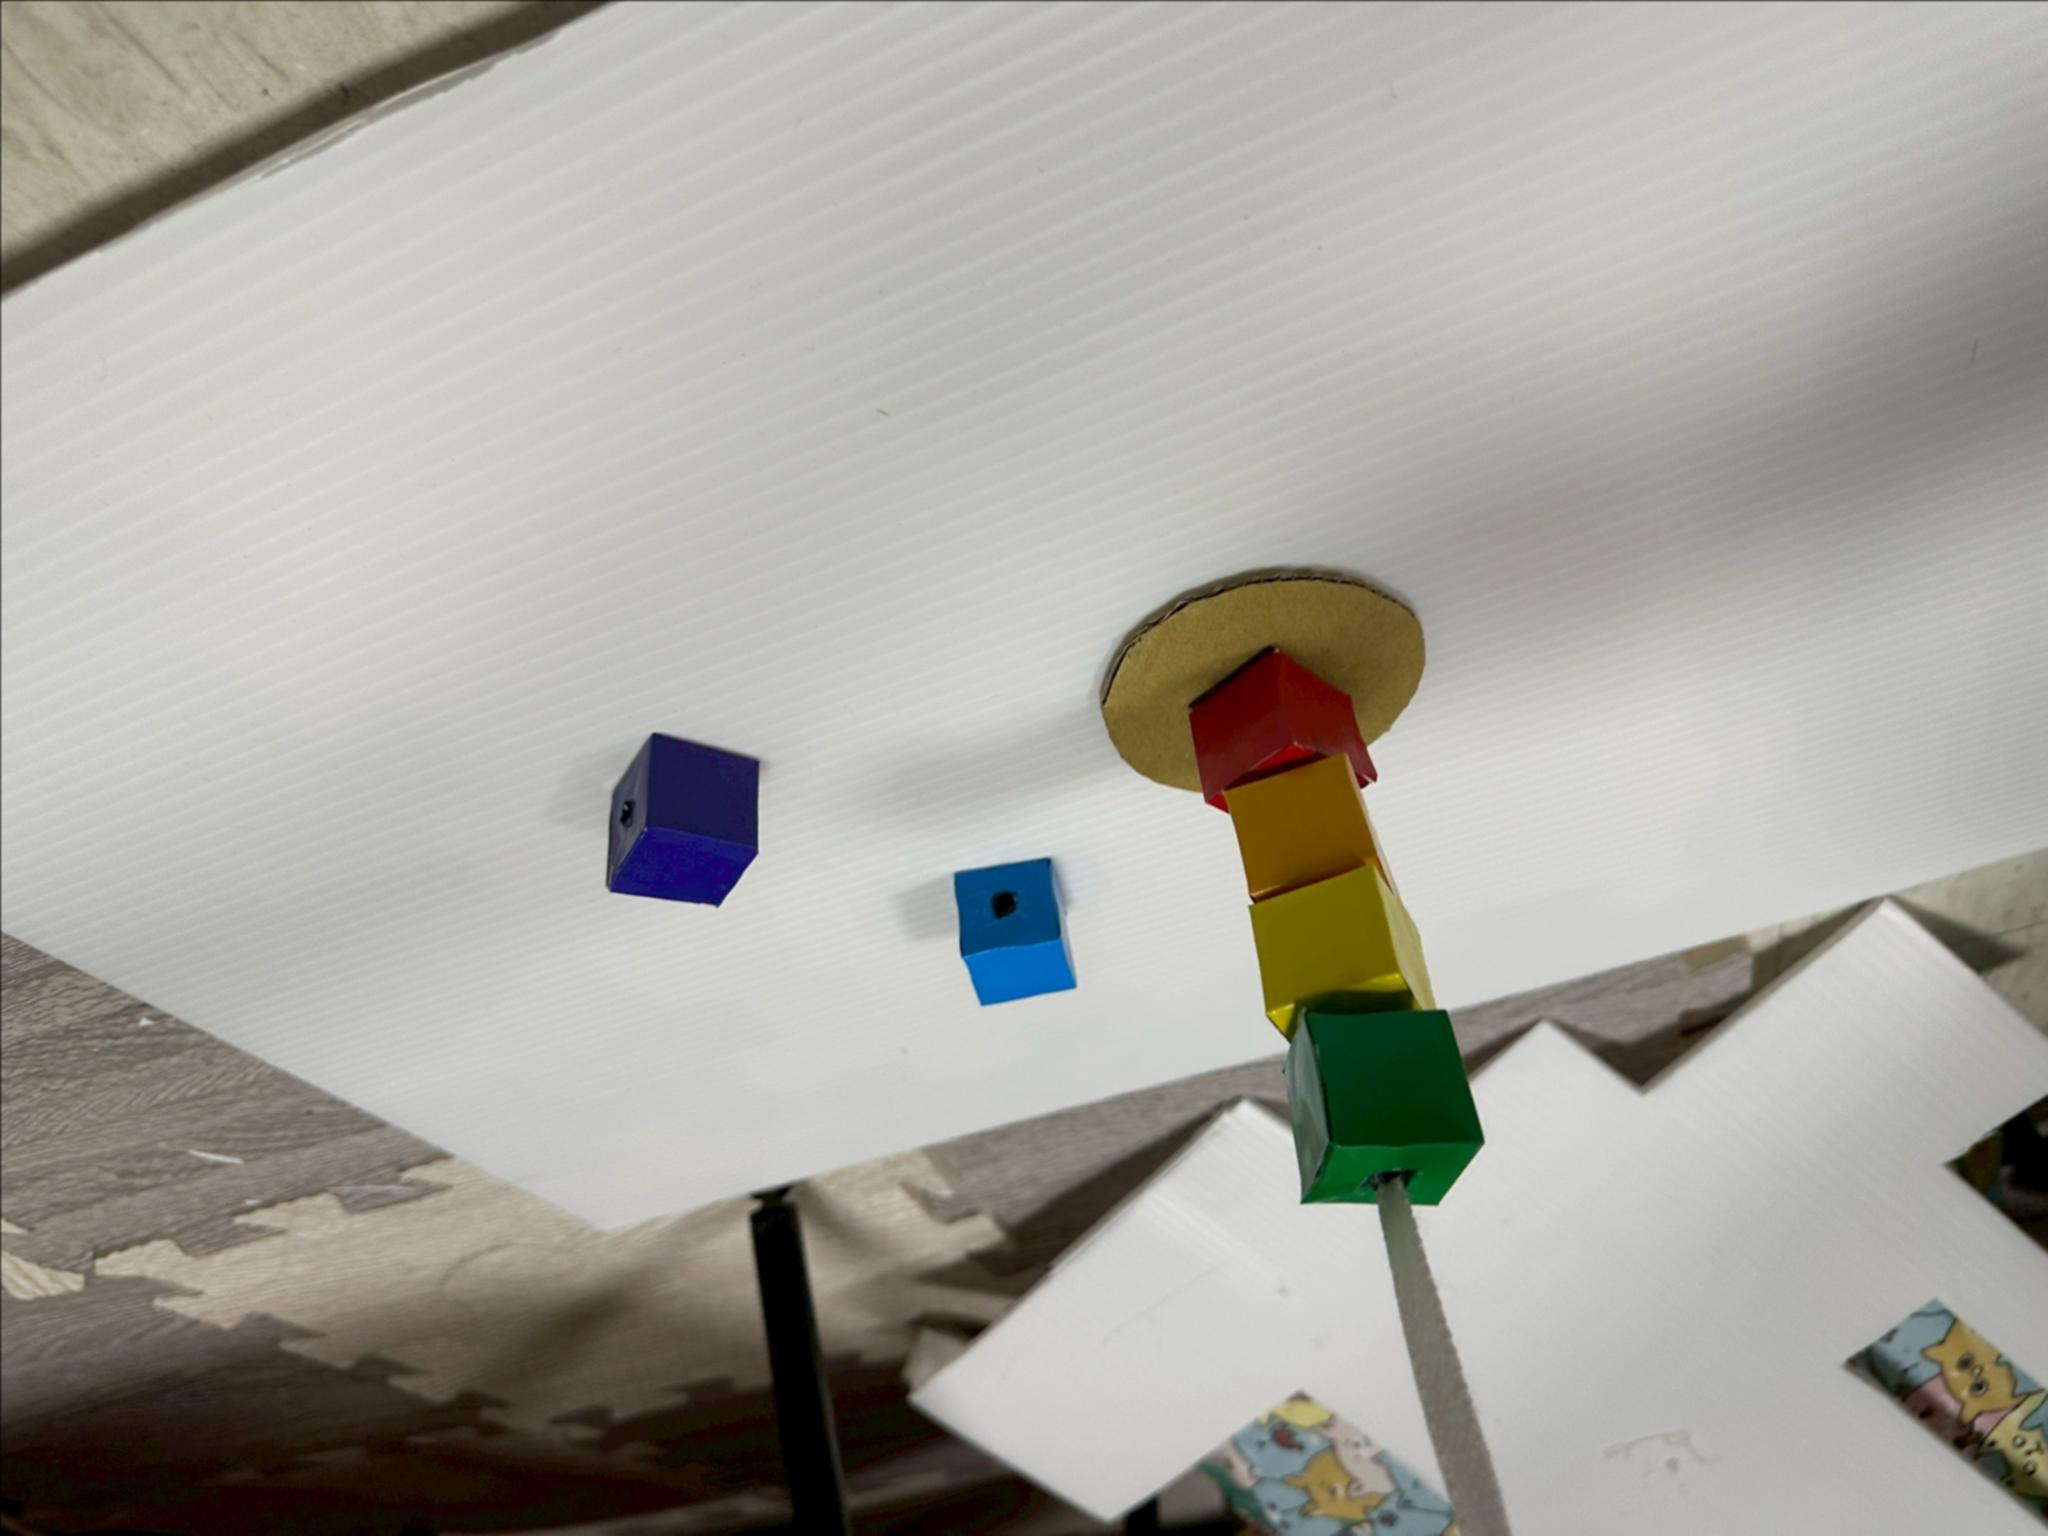base: (1285, 1007, 1482, 1204), (1250, 862, 1434, 1036), (1188, 649, 1376, 810), (606, 734, 758, 905), (1226, 753, 1393, 900), (955, 858, 1072, 1004)
